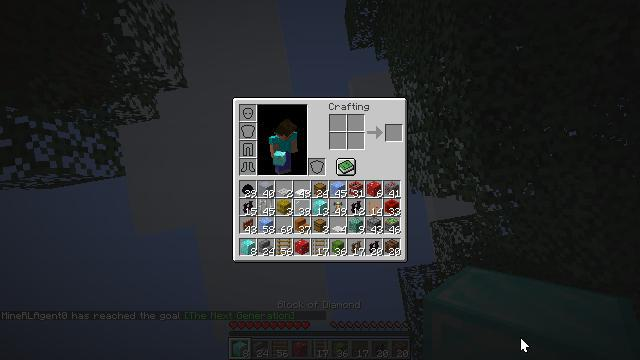cursor: (520, 337, 530, 353)
